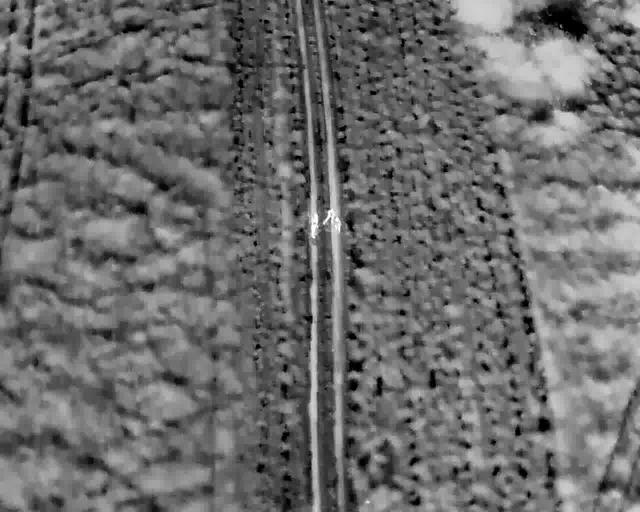person: (321, 206, 335, 225), (332, 215, 342, 234), (309, 220, 319, 239), (309, 210, 319, 228)
